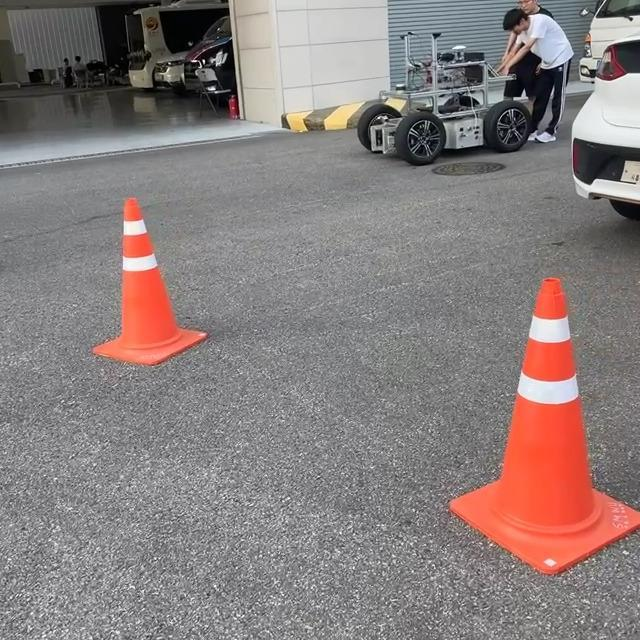fallen_object: (376, 235, 640, 574), (66, 175, 244, 415)
